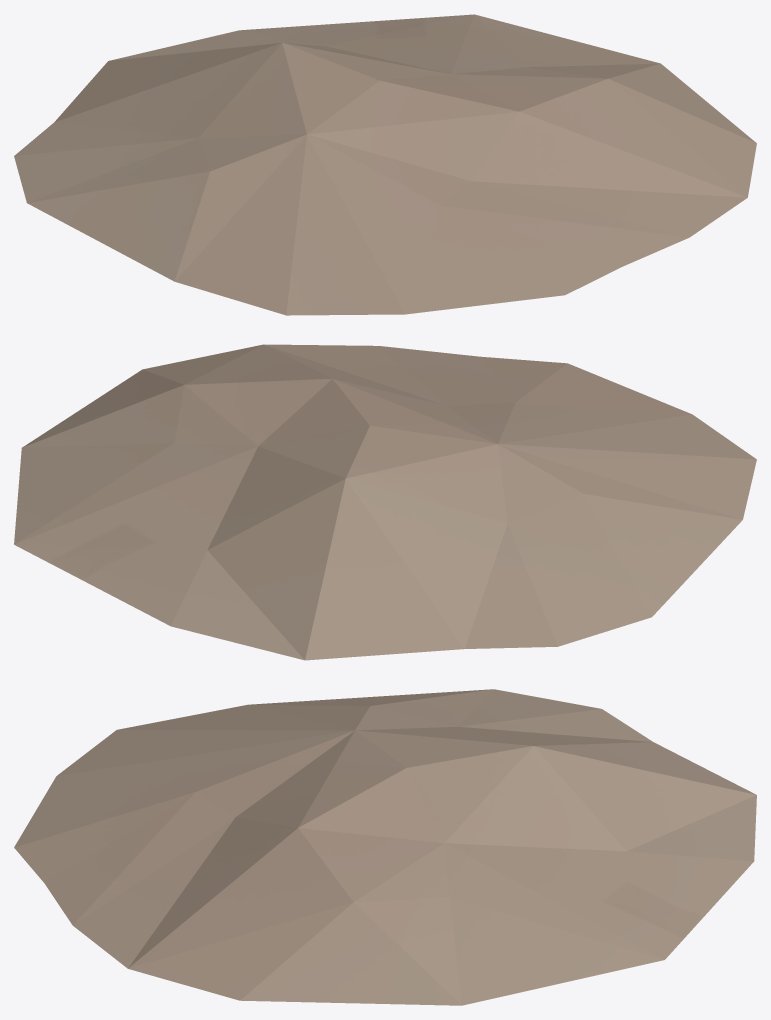
Rendered from SM_Env_Sand_Pile_02.fbx.
3 renders of one model, top to bottom at view 1: azimuth 30°, elevation 25°; view 2: azimuth 150°, elevation 25°; view 3: azimuth 270°, elevation 25°, orthographic. The views are drawn at different scales.
Parts seen in each view (by area): view 1: SM_Env_Sand_Pile_02; view 2: SM_Env_Sand_Pile_02; view 3: SM_Env_Sand_Pile_02.
Boxes of the visible parts, x1,y1,x2,y2 form: SM_Env_Sand_Pile_02: (14, 14, 756, 315); SM_Env_Sand_Pile_02: (14, 344, 756, 660); SM_Env_Sand_Pile_02: (14, 689, 756, 1005).
Size of the model in its own units: 172 by 21.13 by 170.
